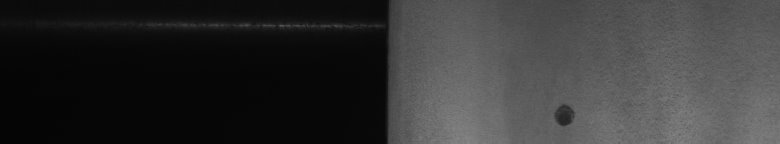fi: (548, 100, 580, 132)
